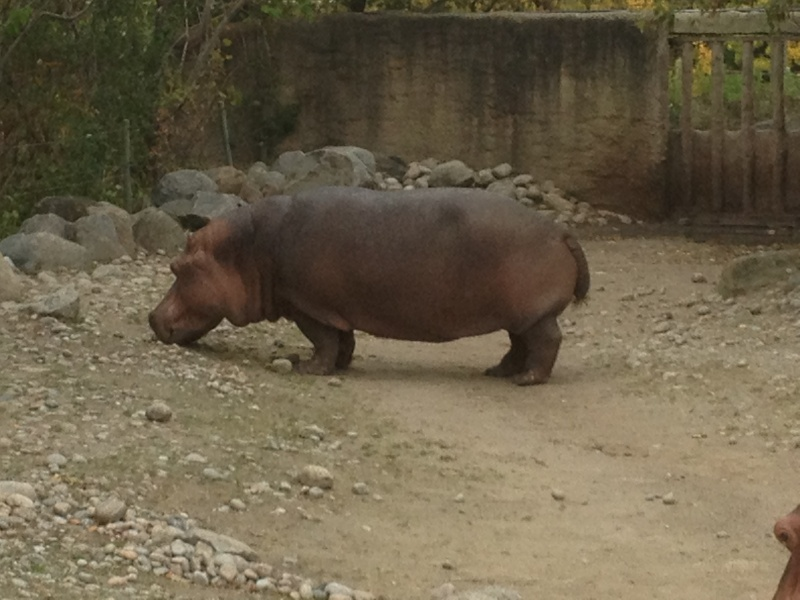hipopotamo: (145, 181, 598, 394)
